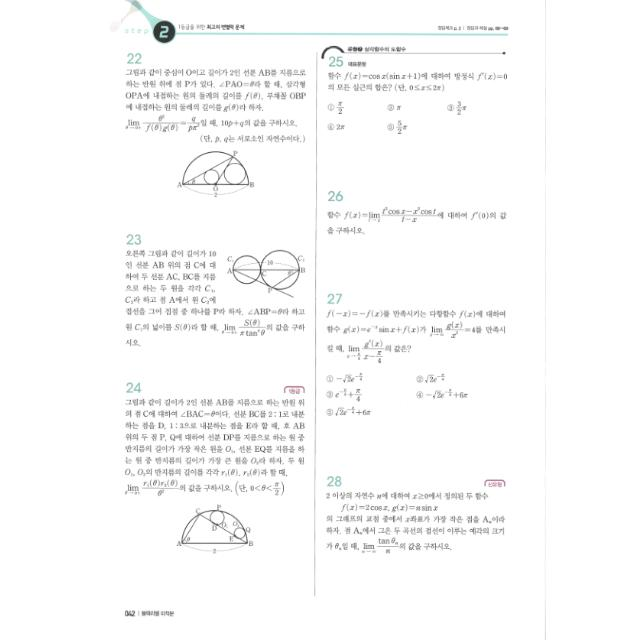multiple: (318, 286, 512, 422), (318, 40, 514, 140)
short: (117, 374, 309, 558), (118, 44, 310, 206), (119, 228, 308, 350), (320, 468, 514, 560), (321, 181, 515, 245)
